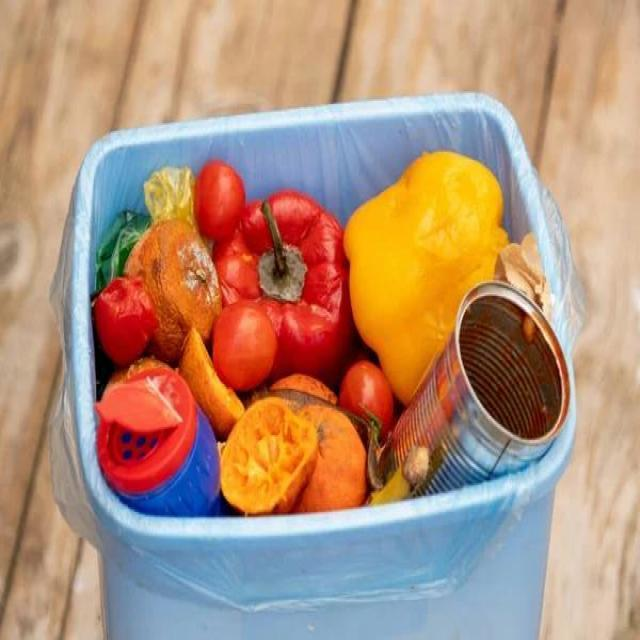Garbage: (85, 149, 584, 521)
Metal: (380, 281, 569, 494)
Plastic_bottle: (95, 366, 222, 516)
contaminated_waste: (378, 276, 572, 498)
